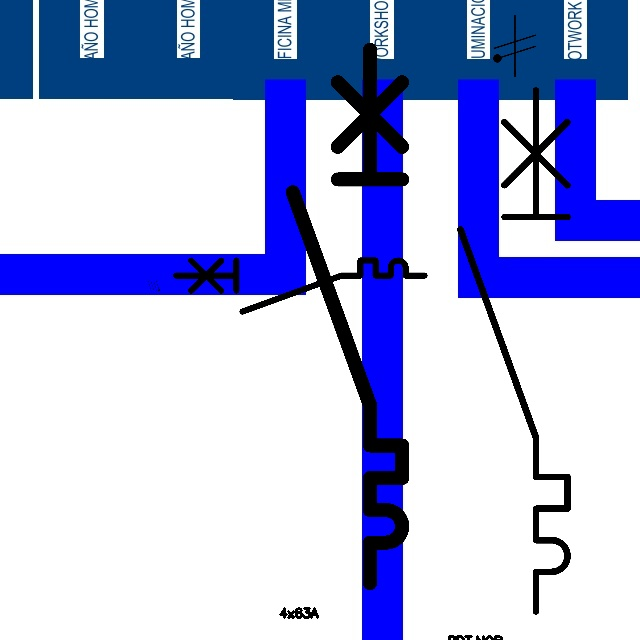interruptor_termomagnetico: (279, 36, 416, 597), (447, 76, 581, 624), (169, 254, 430, 318)
